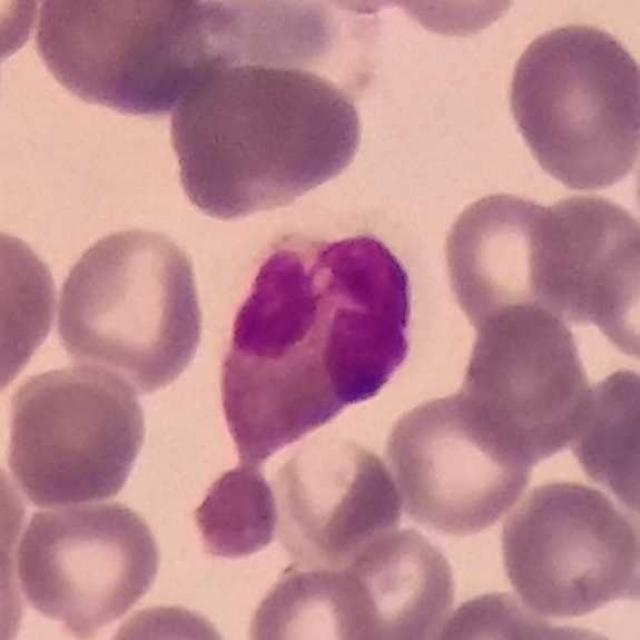Neutrophil: (202, 223, 413, 559)
RBC: (162, 55, 370, 222), (49, 219, 211, 392), (501, 15, 640, 196), (24, 0, 229, 121), (381, 388, 536, 538), (10, 492, 167, 638), (0, 363, 150, 512), (454, 298, 593, 458), (436, 185, 579, 339), (494, 474, 640, 622), (270, 424, 408, 565), (523, 187, 639, 327), (326, 521, 461, 640), (147, 0, 355, 75), (570, 360, 640, 526), (242, 561, 388, 640), (0, 217, 62, 403), (186, 458, 286, 566), (420, 585, 578, 640), (583, 224, 640, 370), (92, 597, 240, 640), (374, 0, 526, 40), (0, 446, 29, 591), (0, 0, 48, 72), (0, 526, 30, 640), (296, 0, 446, 18)
